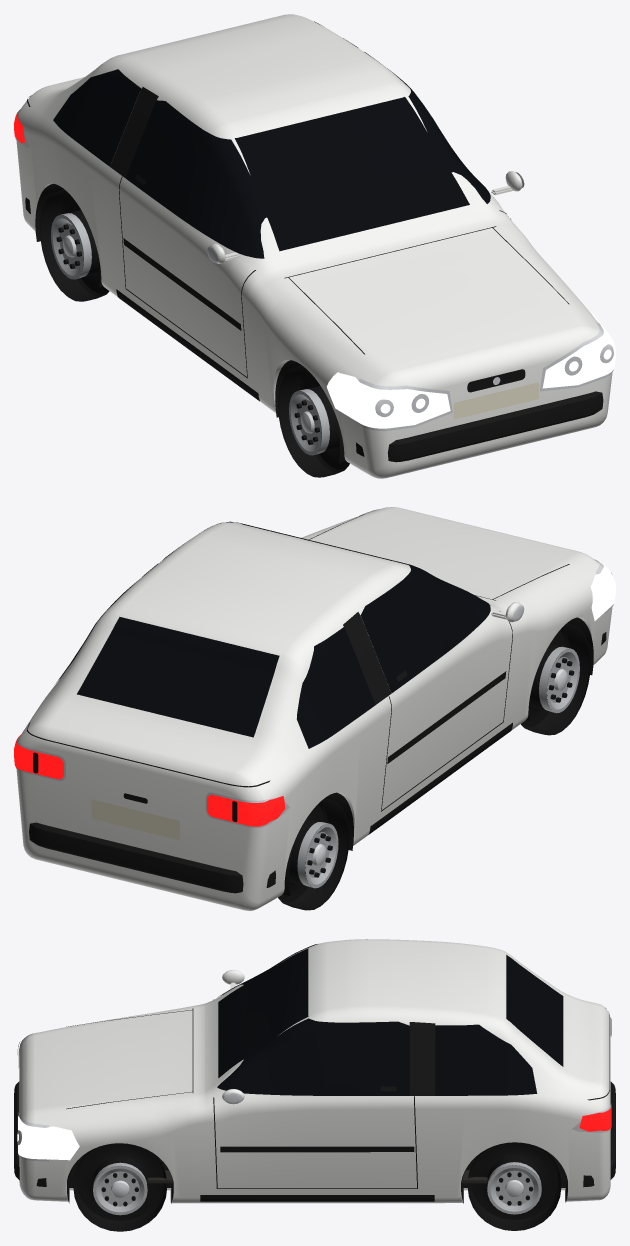
File: corsa.glb
3 renders of one model, top to bottom at view 1: azimuth 30°, elevation 25°; view 2: azimuth 150°, elevation 25°; view 3: azimuth 270°, elevation 25°, orthographic. The views are drawn at different scales.
Parts seen in each view (by area): view 1: body, glass, trim, lights, wheel_fr, wheel_rr, mirrors; view 2: body, glass, trim, wheel_rr, wheel_fr, lights; view 3: body, glass, trim, wheel_rl, wheel_fl, lights, mirrors, interior.
Part boxes in pixels (<box>): body: <box>16,14,612,478</box>; glass: <box>53,21,490,258</box>; trim: <box>15,38,613,462</box>; lights: <box>14,112,615,428</box>; wheel_fr: <box>278,365,349,477</box>; wheel_rr: <box>39,189,109,301</box>; mirrors: <box>207,171,524,263</box>; body: <box>16,507,612,910</box>; glass: <box>56,521,490,748</box>; trim: <box>15,509,613,895</box>; wheel_rr: <box>278,798,349,910</box>; wheel_fr: <box>521,623,590,735</box>; lights: <box>14,509,615,826</box>; body: <box>19,939,610,1203</box>; glass: <box>217,944,563,1095</box>; trim: <box>14,999,615,1203</box>; wheel_rl: <box>467,1142,561,1230</box>; wheel_fl: <box>73,1143,166,1231</box>; lights: <box>17,1018,611,1160</box>; mirrors: <box>222,969,244,1104</box>; interior: <box>147,1170,487,1183</box>.
Size of the model in its own units: 1.81 by 1.42 by 3.73.
